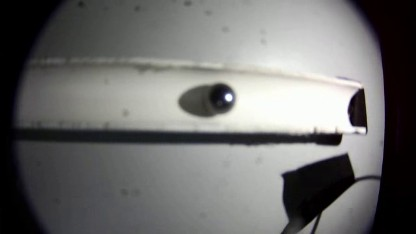gangzhu: (211, 83, 231, 109)
